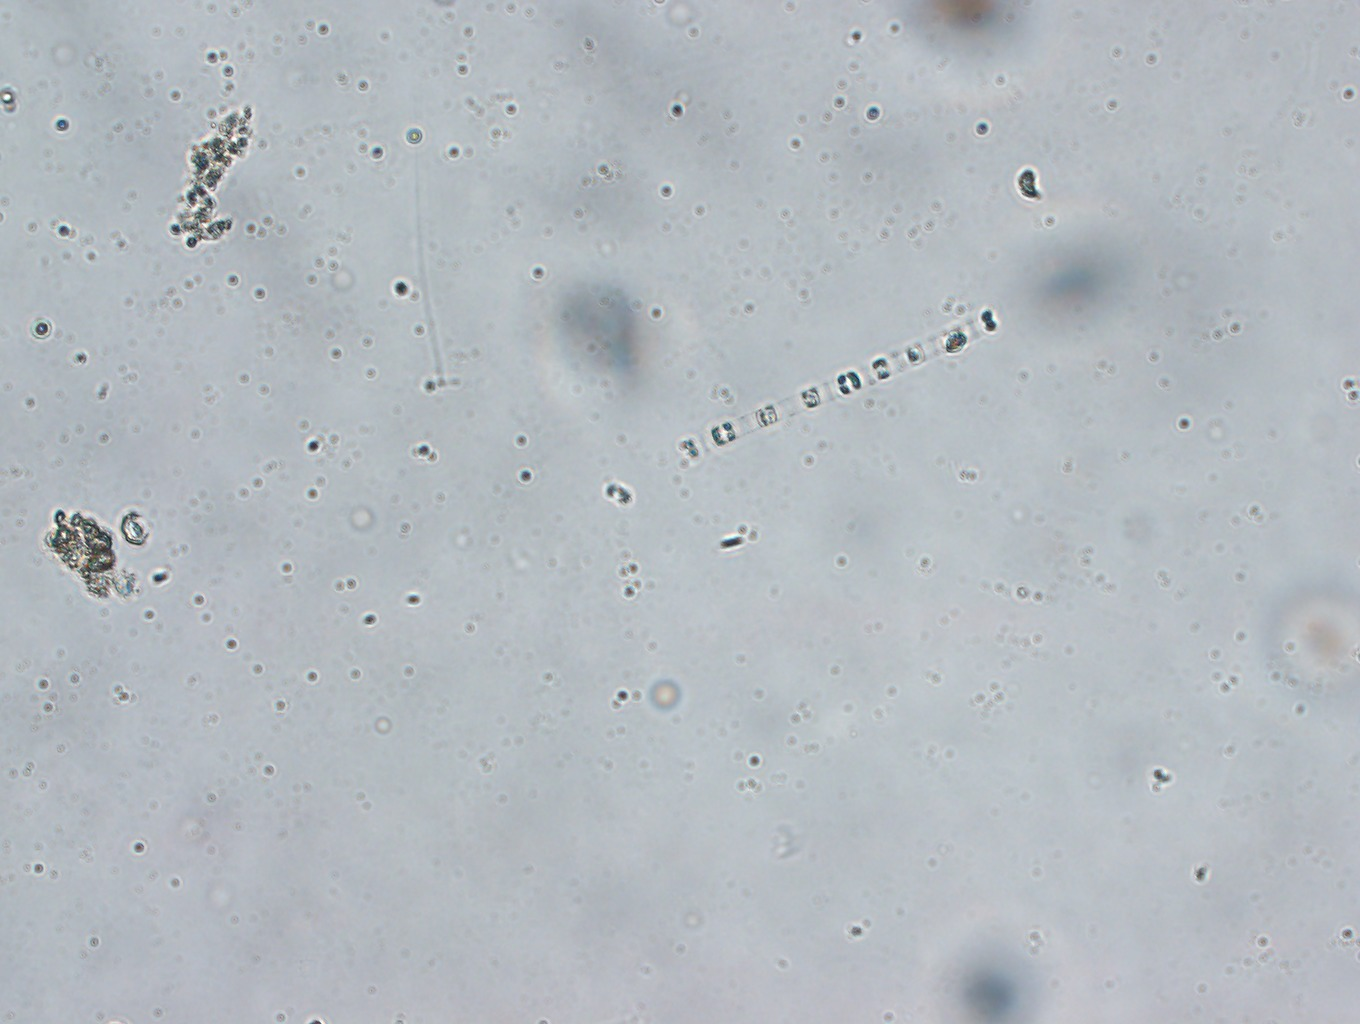skeletonema: (677, 307, 1004, 459)
